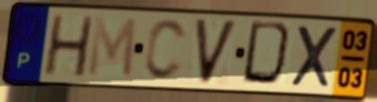C: (141, 17, 189, 84)
D: (239, 19, 297, 90)
H: (41, 14, 96, 80)
M: (85, 15, 140, 82)
V: (192, 17, 241, 88)
X: (288, 23, 340, 91)
